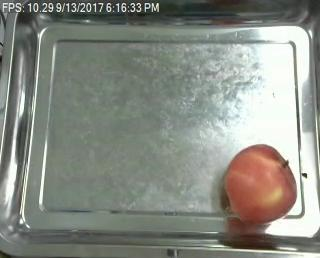apple: (222, 142, 297, 223)
